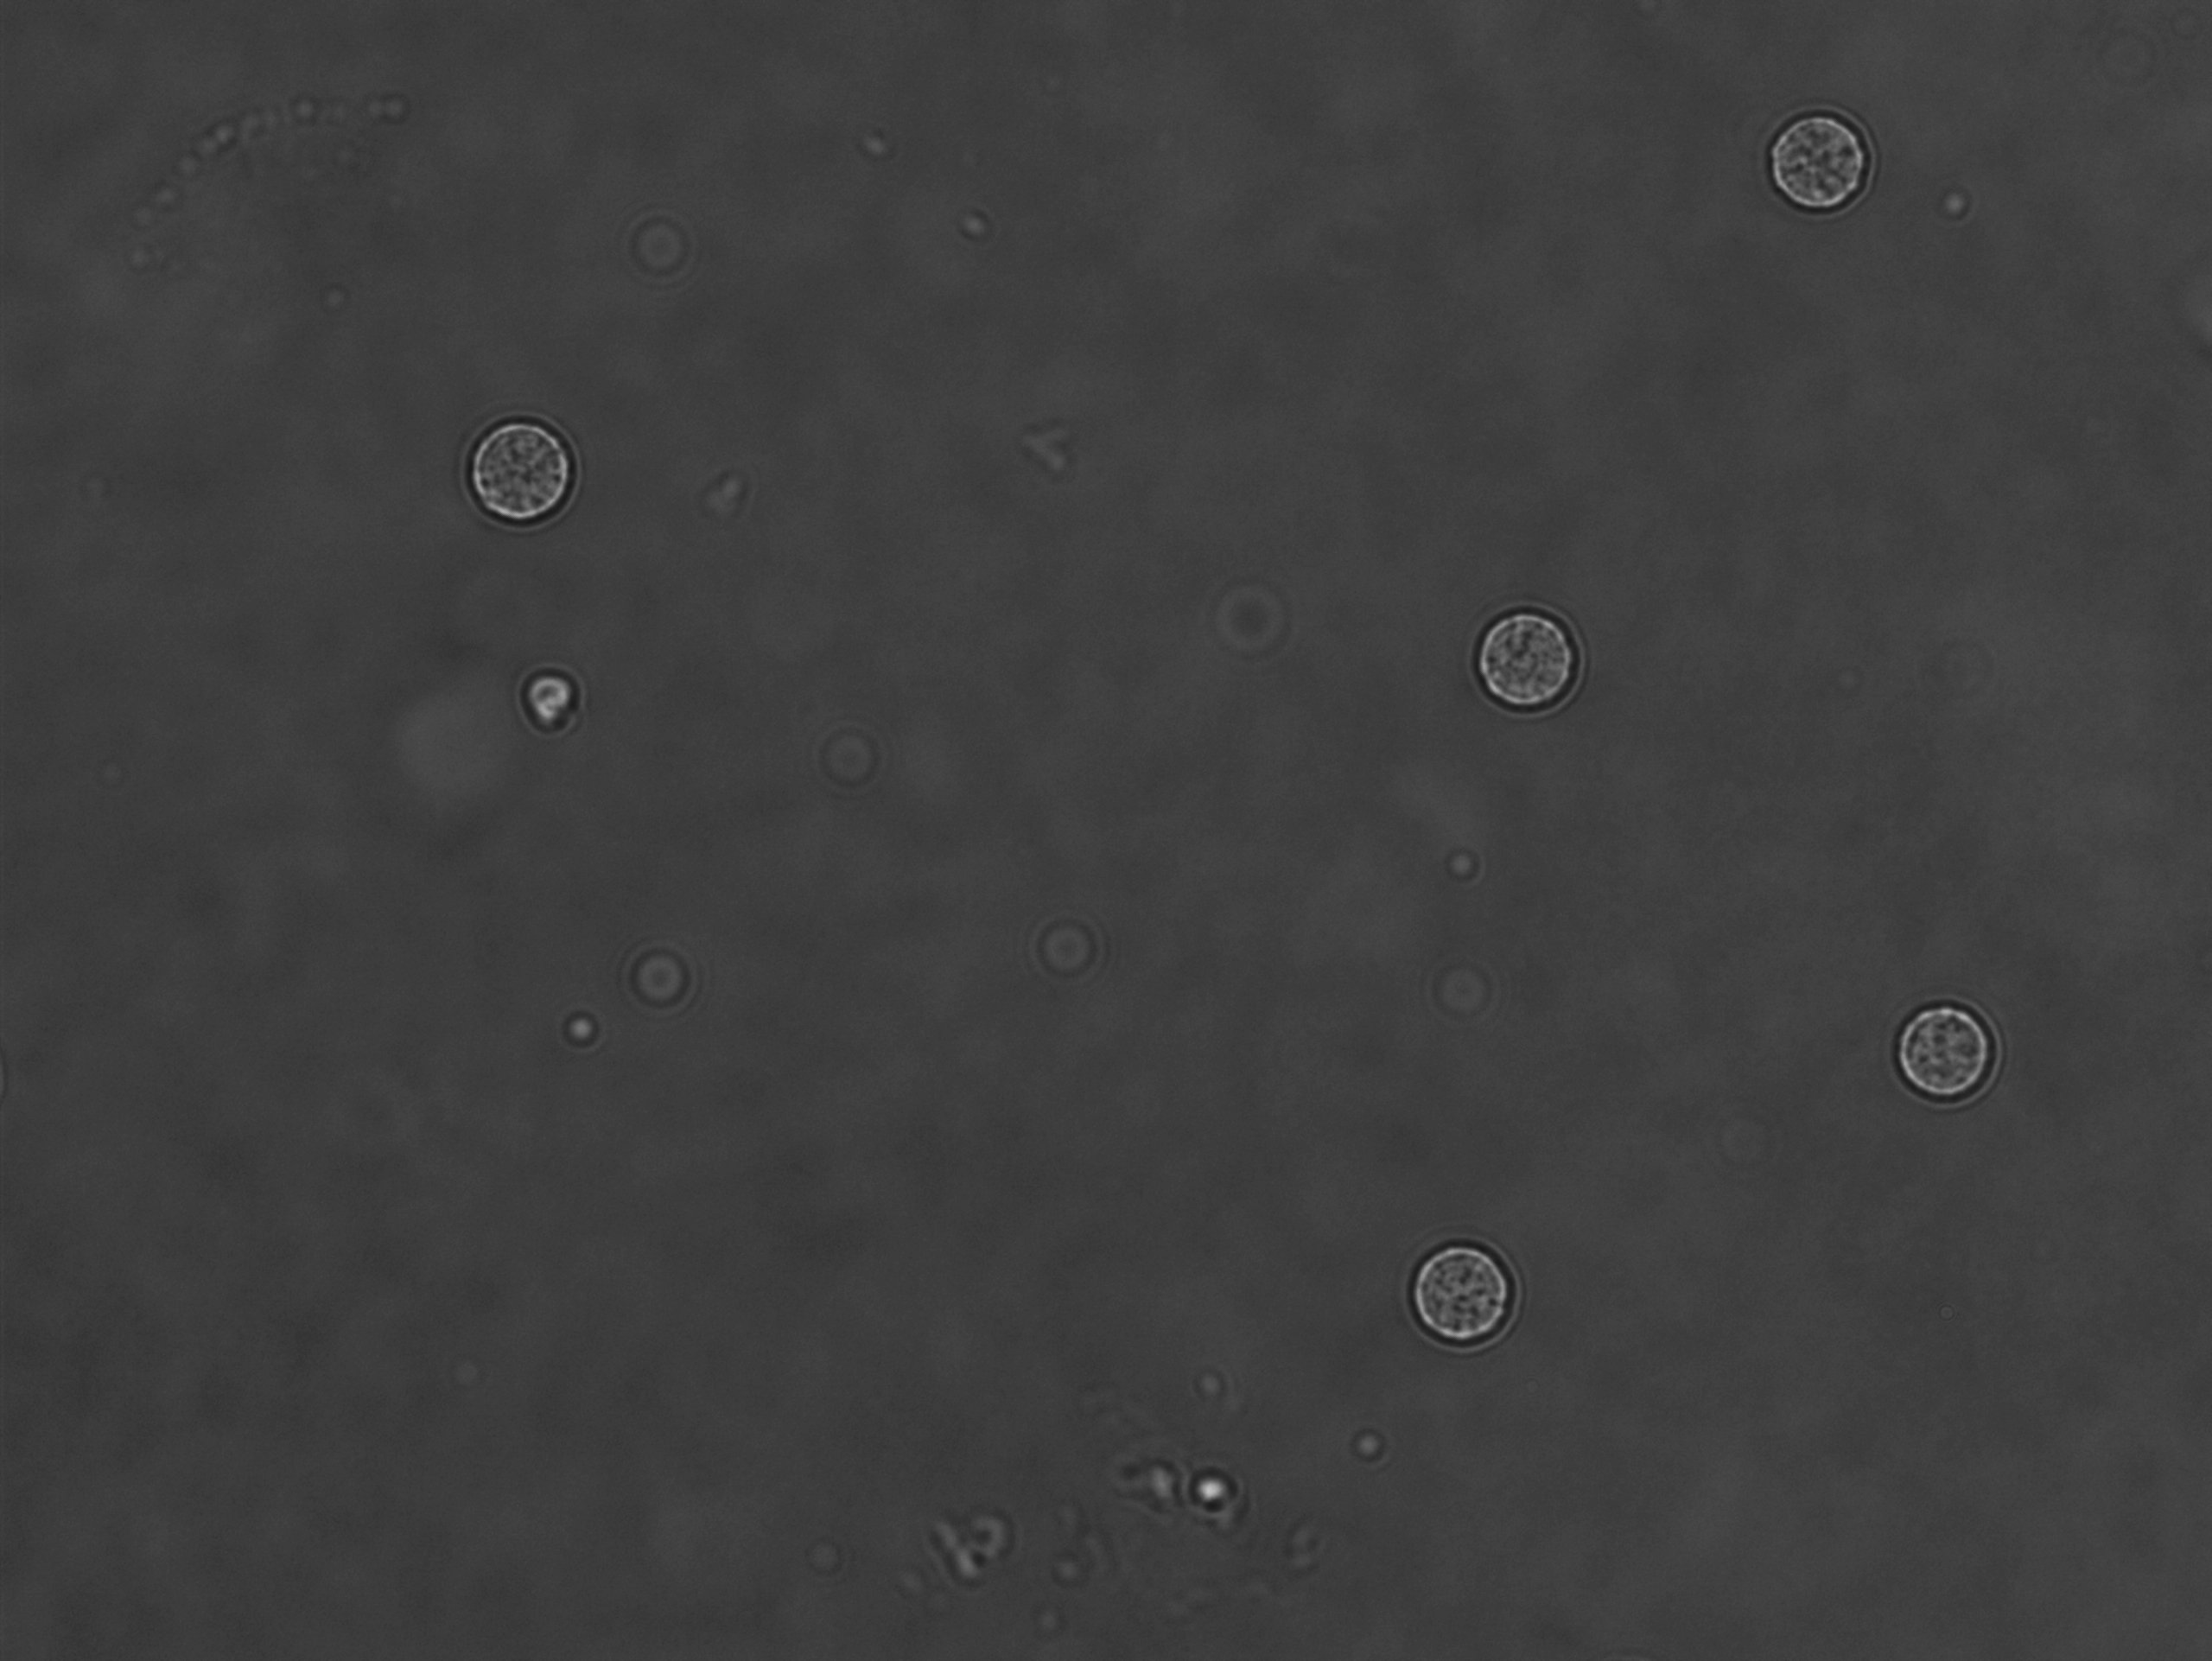depth:0: (1867, 968, 2029, 1139), (450, 387, 605, 551), (1451, 590, 1610, 738), (1397, 1228, 1546, 1370), (1748, 92, 1895, 222)
